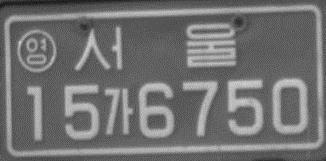0: (269, 75, 310, 137)
1: (23, 83, 49, 142)
5: (225, 76, 266, 137), (62, 83, 102, 141)
6: (138, 80, 177, 138)
7: (180, 77, 219, 139)
가: (101, 86, 136, 137)
서울_D: (72, 20, 238, 73)
영: (15, 27, 59, 73)
